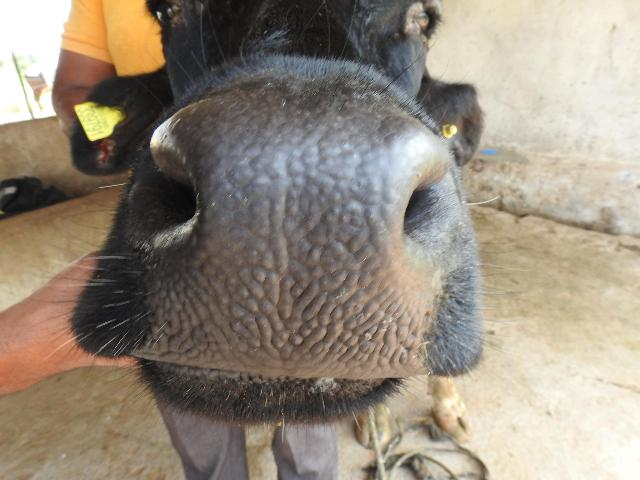Muzzle: (198, 117, 400, 369)
